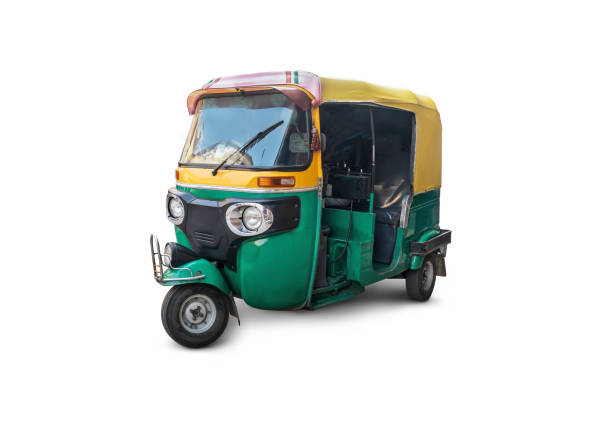threewheel: (149, 70, 451, 349)
